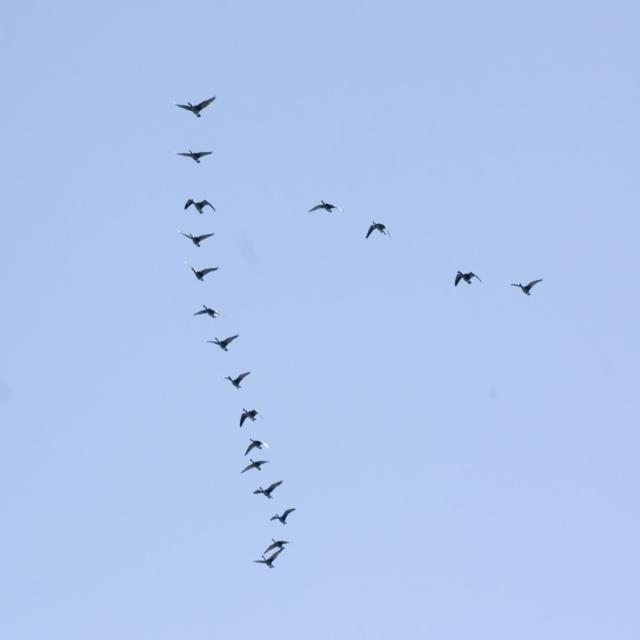bird: (174, 93, 218, 119), (252, 540, 288, 568), (182, 194, 216, 219), (180, 227, 216, 250), (185, 260, 220, 282), (207, 331, 240, 354), (176, 148, 215, 167), (508, 278, 545, 297), (222, 368, 251, 391), (251, 479, 282, 500), (238, 404, 262, 429), (268, 506, 296, 527), (192, 303, 222, 322), (454, 269, 482, 289), (307, 198, 338, 216), (241, 457, 269, 476), (365, 221, 389, 241), (242, 436, 267, 454)
